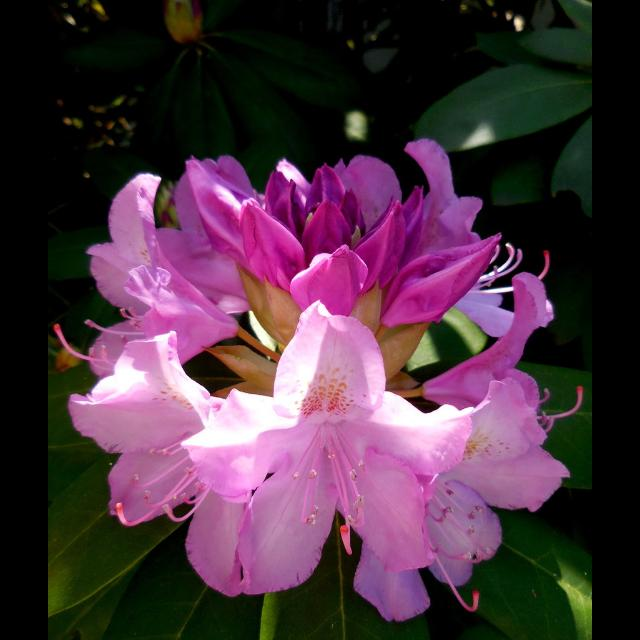Flower: (142, 304, 526, 606)
